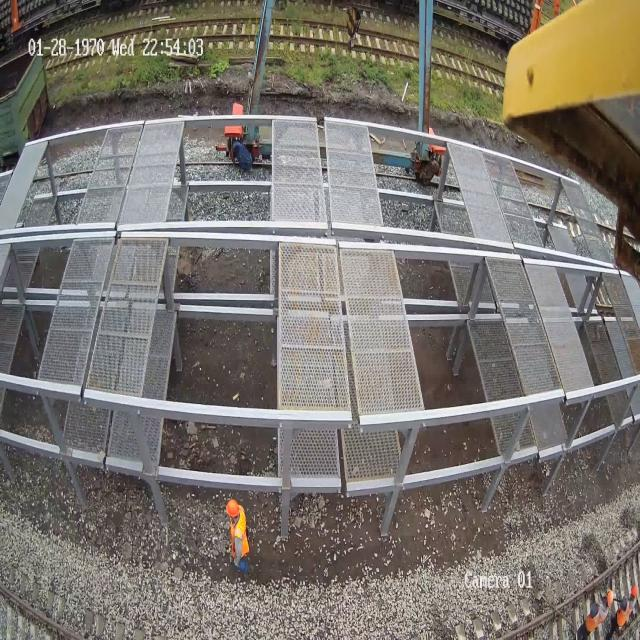Helmet: (226, 498, 239, 518), (606, 589, 614, 606)
Person: (581, 573, 640, 640), (226, 498, 250, 574)
